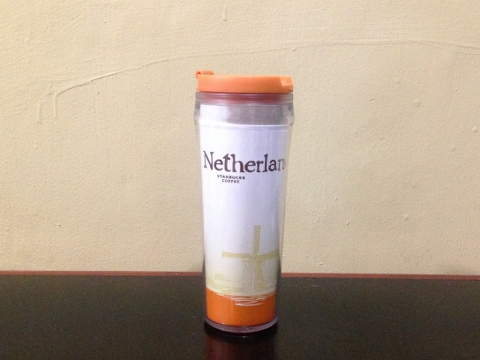tempat minum: (194, 69, 295, 335)
